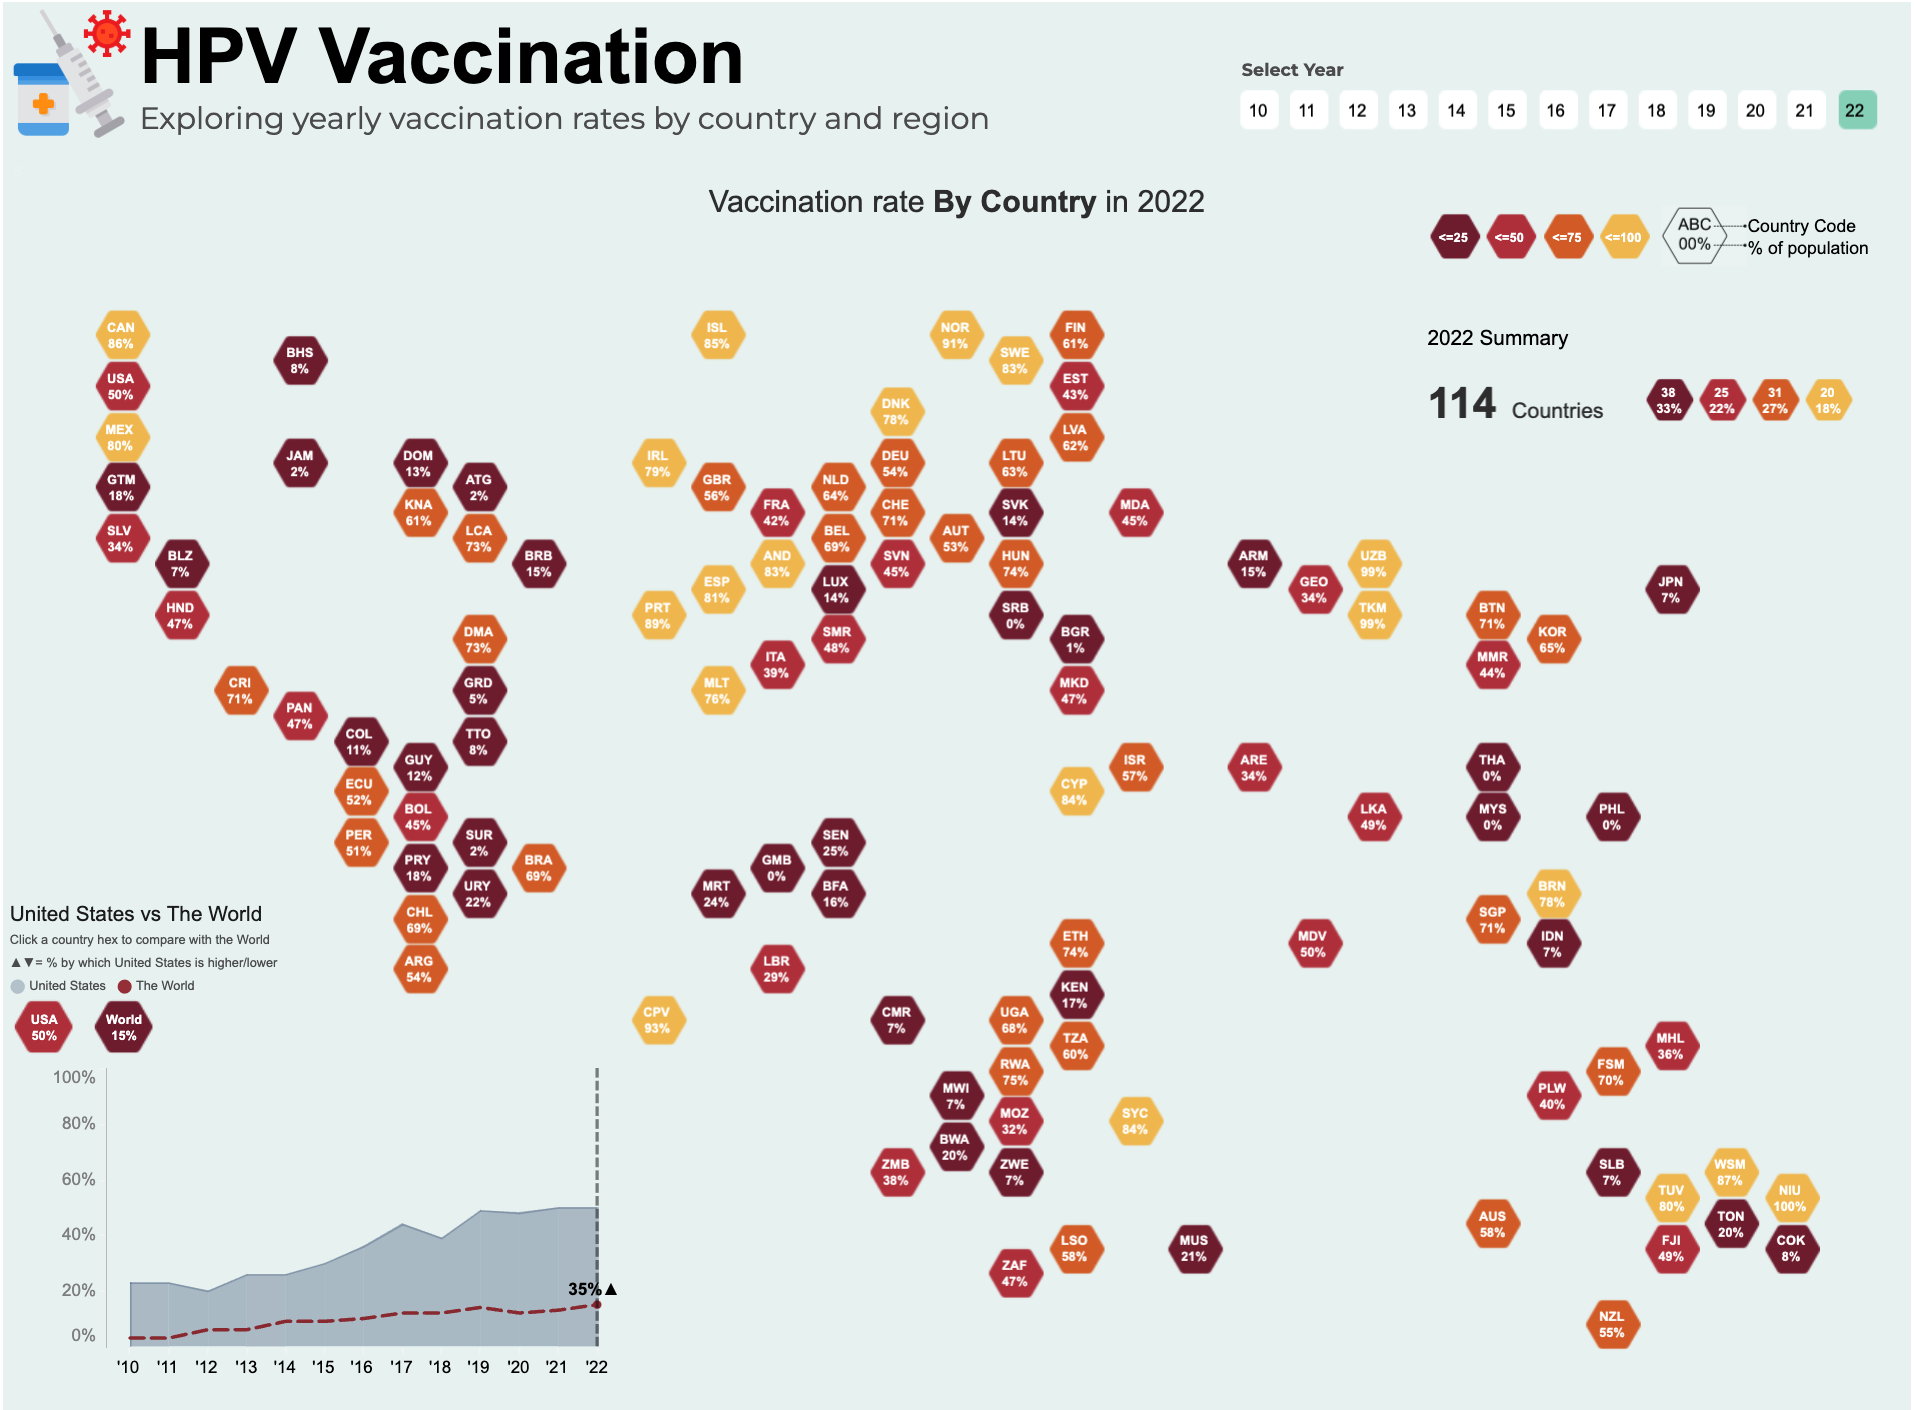

Layout of this report page (visuals, bound fields, positions):
{"tool":"tableau","page":{"name":"HPV Vaccinations","canvas":[1200,1400],"ordinal":0},"visuals":[{"type":"image","param":"/Users/avishnu/Downloads/vaccine.png","box":[4,4,85,90.5]},{"type":"text","box":[89,4,1107,90.5]},{"type":"blank","box":[4,94.5,1192,10]},{"type":"worksheet","title":"UN Regions","mark":"Automatic","rows":["Proportion who received the final dose of (HPV) vaccine (%)","Proportion who received the final dose of (HPV) vaccine (%)"],"cols":["Year"],"box":[4,104.5,1192,307.5]},{"type":"blank","box":[4,412,1192,10]},{"type":"blank","box":[4,422,237,154]},{"type":"worksheet","title":"Developing Regions","mark":"Automatic","rows":["Proportion who received the final dose of (HPV) vaccine (%)","Proportion who received the final dose of (HPV) vaccine (%)"],"cols":["Entity","Year"],"box":[241,422,715,154]},{"type":"blank","box":[956,422,240,154]},{"type":"worksheet","title":"Hex Map","mark":"Automatic","rows":["HexRow"],"cols":["HexCol"],"box":[4,576,1192,788]},{"type":"image","param":"/Users/avishnu/Desktop/Screenshot 2025-01-08 at 8.40.44 PM.png","box":[1040,620,54,50]},{"type":"worksheet","title":"Years Select","mark":"Shape","cols":["Year"],"box":[383,622,435,44]},{"type":"worksheet","title":"Color Legend","mark":"Shape","rows":["Calculation_5841379856743784452"],"box":[890,622,152,40]},{"type":"text","box":[310,629,100,30]},{"type":"text","box":[1094,631,89,14]},{"type":"text","box":[1094,643,89,14]},{"type":"worksheet","title":"Total Countries","mark":"Automatic","box":[890,690,161,74]},{"type":"worksheet","title":"Countries by Color Code","mark":"Shape","rows":["Calculation_5841379856743784452"],"box":[1025,722,141,37]},{"type":"text","box":[4,1056,247,62]},{"type":"worksheet","title":"Selected Country","mark":"Shape","rows":["Calculation_5841379856743784452"],"box":[4,1108,50,44]},{"type":"worksheet","title":"World","mark":"Shape","rows":["Calculation_5841379856743784452"],"box":[54,1108,50,44]},{"type":"worksheet","title":"vs World","mark":"Automatic","rows":["Calculation_5841379856924717071","Calculation_5841379856924860432"],"cols":["Year"],"box":[4,1152,390,212]},{"type":"text","box":[4,1364,397.3,32]},{"type":"text","box":[401.3,1364,385.7,32]},{"type":"text","box":[787,1364,409,32]}]}

Visuals, with their boxes on the page's 1200x1400 design canvas (x1, y1, x2, y2). These are canvas units, not pixel positions in the 1914x1410 screenshot, which may show the page scaled, cropped or inside an application window:
image: x1=4, y1=4, x2=89, y2=94
text: x1=89, y1=4, x2=1196, y2=94
blank: x1=4, y1=94, x2=1196, y2=104
"UN Regions" worksheet: x1=4, y1=104, x2=1196, y2=412
blank: x1=4, y1=412, x2=1196, y2=422
blank: x1=4, y1=422, x2=241, y2=576
"Developing Regions" worksheet: x1=241, y1=422, x2=956, y2=576
blank: x1=956, y1=422, x2=1196, y2=576
"Hex Map" worksheet: x1=4, y1=576, x2=1196, y2=1364
image: x1=1040, y1=620, x2=1094, y2=670
"Years Select" worksheet (Shape marks): x1=383, y1=622, x2=818, y2=666
"Color Legend" worksheet (Shape marks): x1=890, y1=622, x2=1042, y2=662
text: x1=310, y1=629, x2=410, y2=659
text: x1=1094, y1=631, x2=1183, y2=645
text: x1=1094, y1=643, x2=1183, y2=657
"Total Countries" worksheet: x1=890, y1=690, x2=1051, y2=764
"Countries by Color Code" worksheet (Shape marks): x1=1025, y1=722, x2=1166, y2=759
text: x1=4, y1=1056, x2=251, y2=1118
"Selected Country" worksheet (Shape marks): x1=4, y1=1108, x2=54, y2=1152
"World" worksheet (Shape marks): x1=54, y1=1108, x2=104, y2=1152
"vs World" worksheet: x1=4, y1=1152, x2=394, y2=1364
text: x1=4, y1=1364, x2=401, y2=1396
text: x1=401, y1=1364, x2=787, y2=1396
text: x1=787, y1=1364, x2=1196, y2=1396
